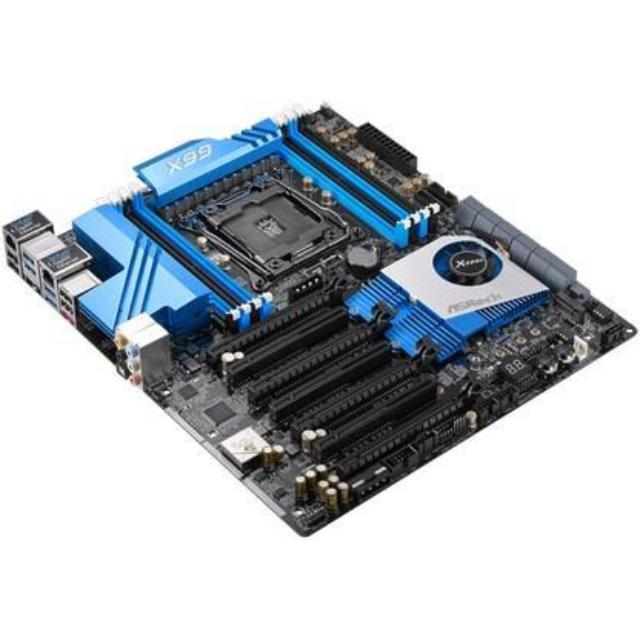Mainboard: (3, 101, 640, 546)
